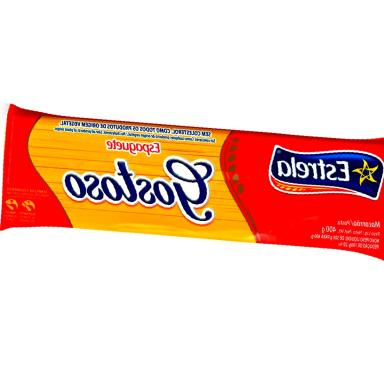pasta package: (0, 105, 383, 258)
